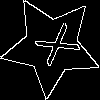X: (26, 21, 81, 73)
